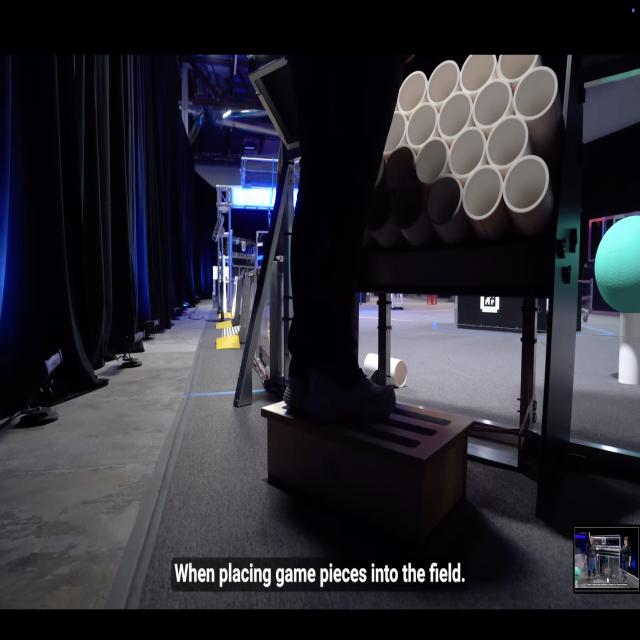algae: (592, 210, 640, 314)
coral: (504, 154, 552, 220), (513, 66, 562, 120), (463, 168, 507, 223), (486, 116, 530, 168), (438, 88, 480, 140), (412, 128, 448, 186), (474, 78, 514, 129), (364, 347, 410, 390), (449, 127, 486, 179), (618, 303, 640, 389), (462, 49, 496, 99), (426, 60, 462, 105), (406, 102, 441, 148), (496, 49, 542, 82), (398, 72, 428, 114), (381, 109, 408, 155)
